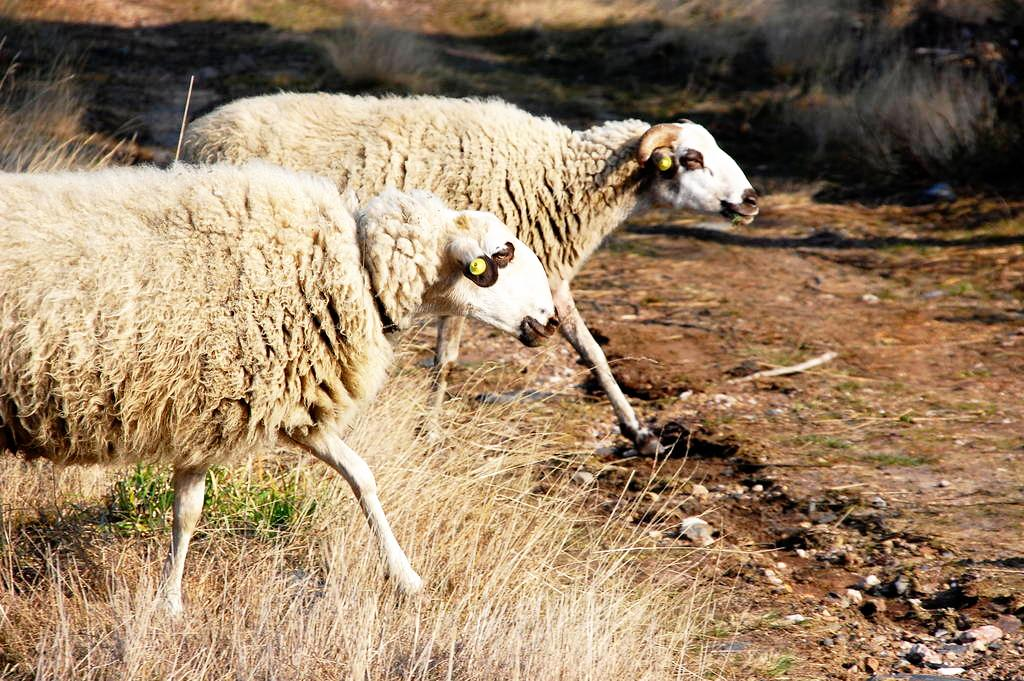Sheep: (0, 160, 565, 609), (176, 93, 758, 456)
